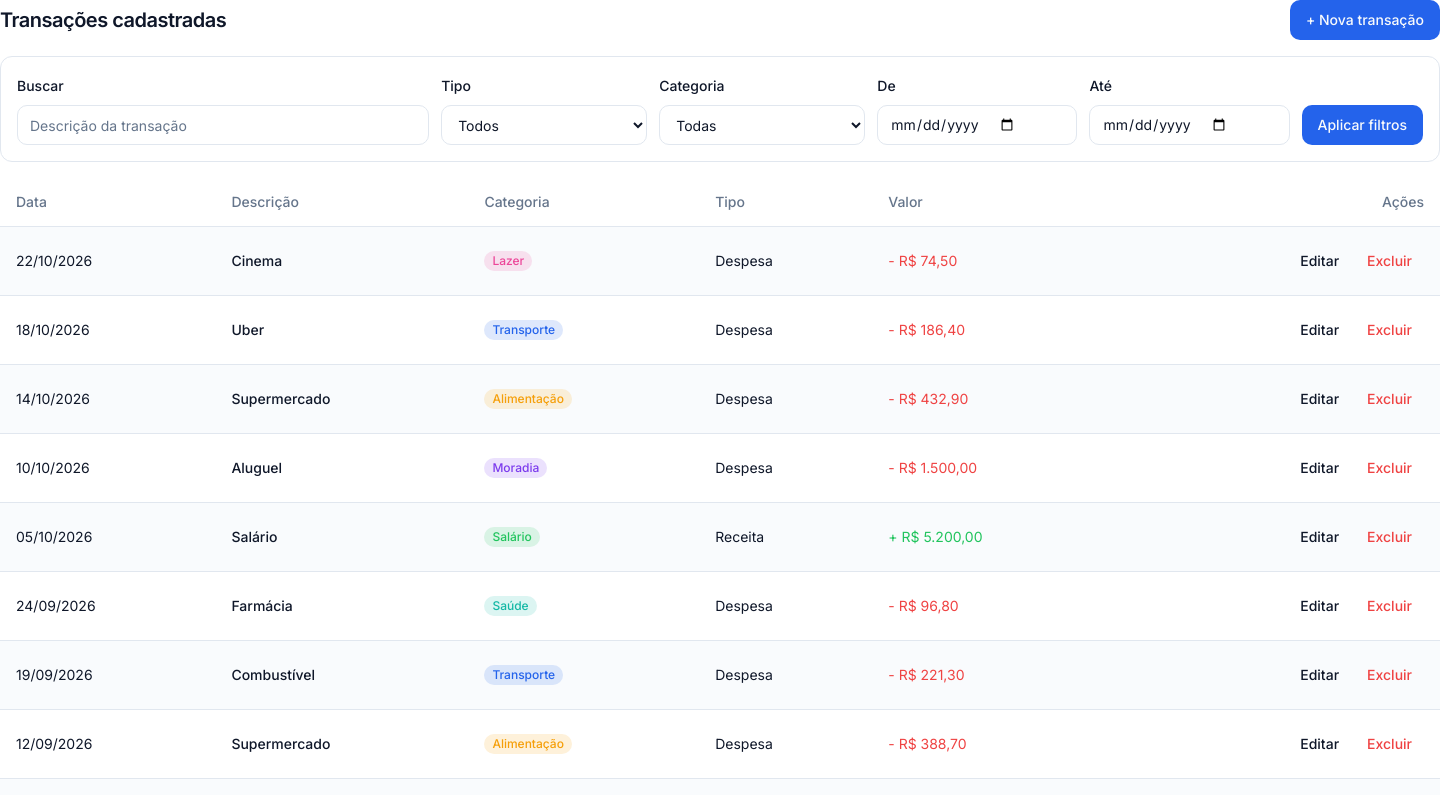
Test: TransactionsPage (AC-004, AC-007, AC-009) › exclui uma transação com confirmação e mostra o estado vazio
The image size is (1440, 795).
Step 1. Type "Dentista" into the search field labelled "Buscar" → (223, 125), box [17, 105, 429, 145]
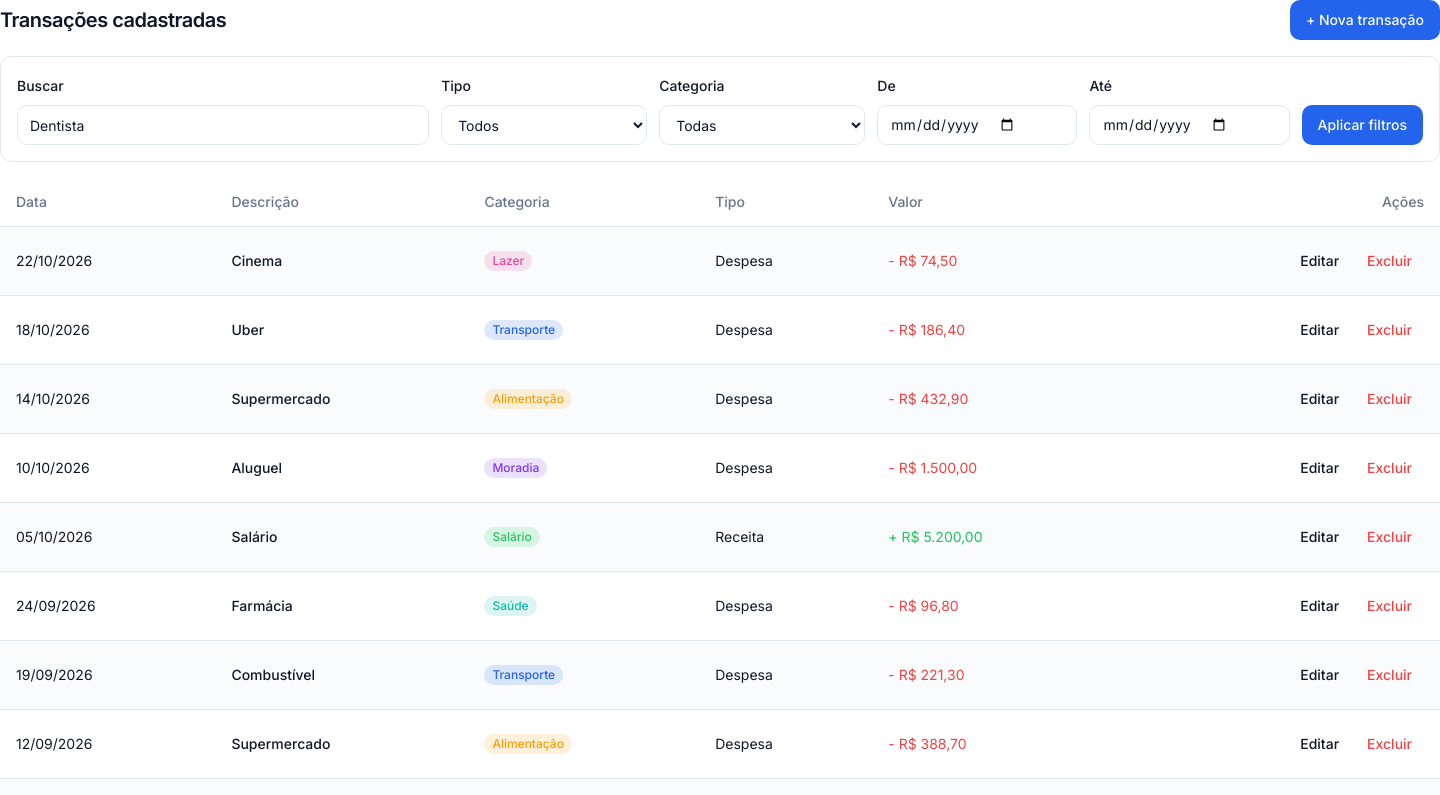
Step 2. Click the button "Aplicar filtros" → (1362, 125), box [1302, 105, 1423, 145]
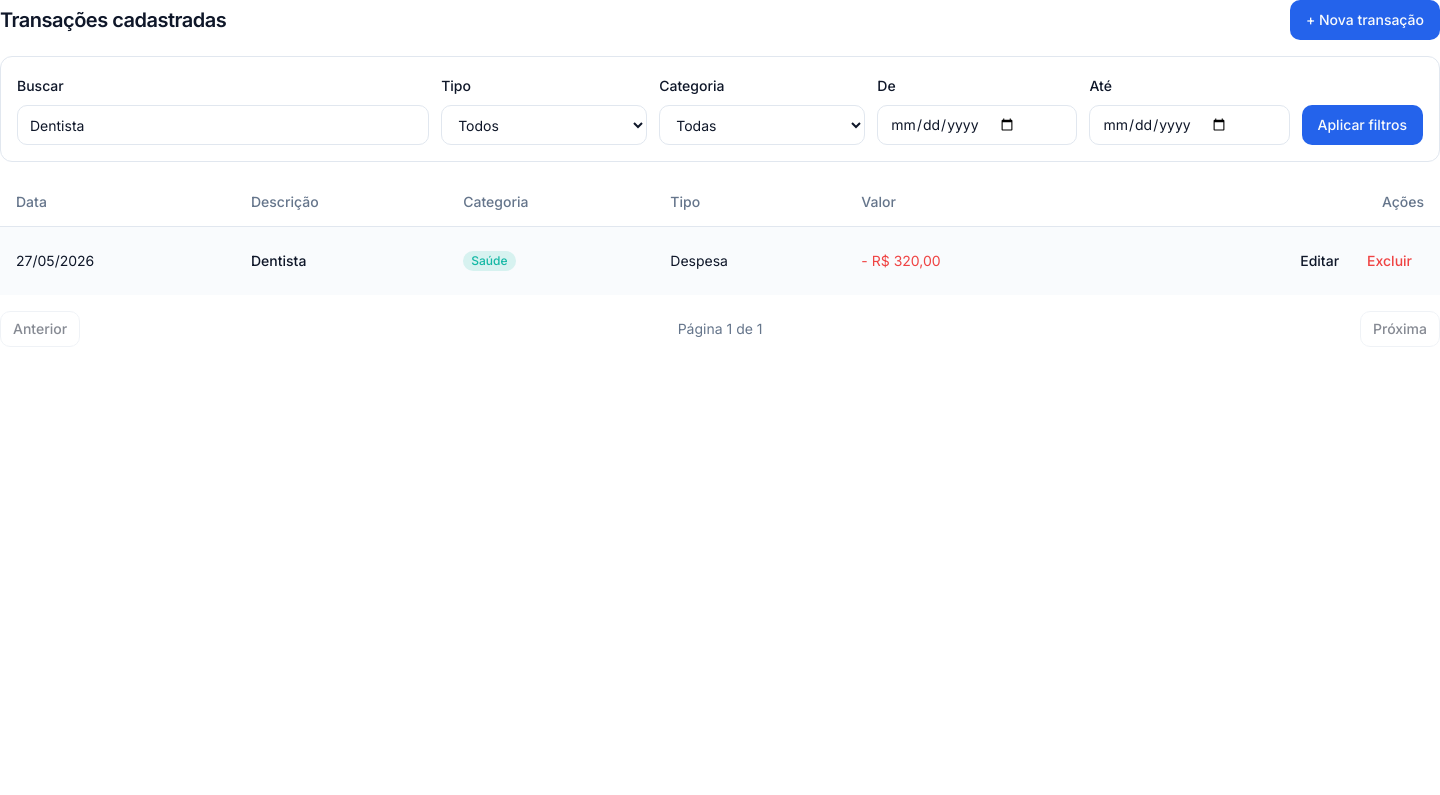
expect the text "Dentista" is shown: met, box [235, 226, 447, 294]
Step 3. Click the button "Excluir" → (1390, 260), box [1355, 242, 1424, 278]
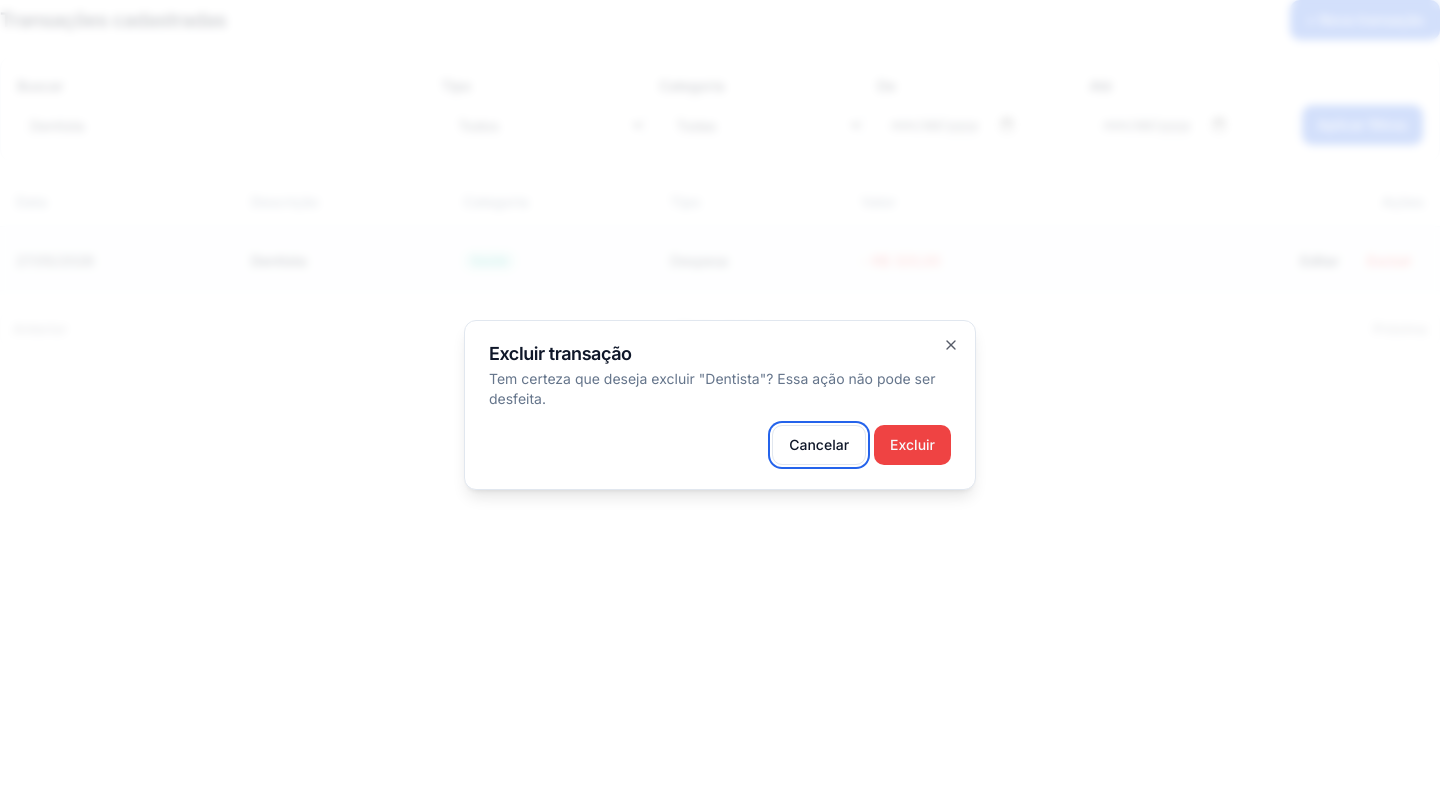
expect the dialog "Excluir transação" is shown: met, box [464, 320, 976, 490]
Step 4. Click the button "Excluir" → (913, 445), box [874, 425, 951, 465]
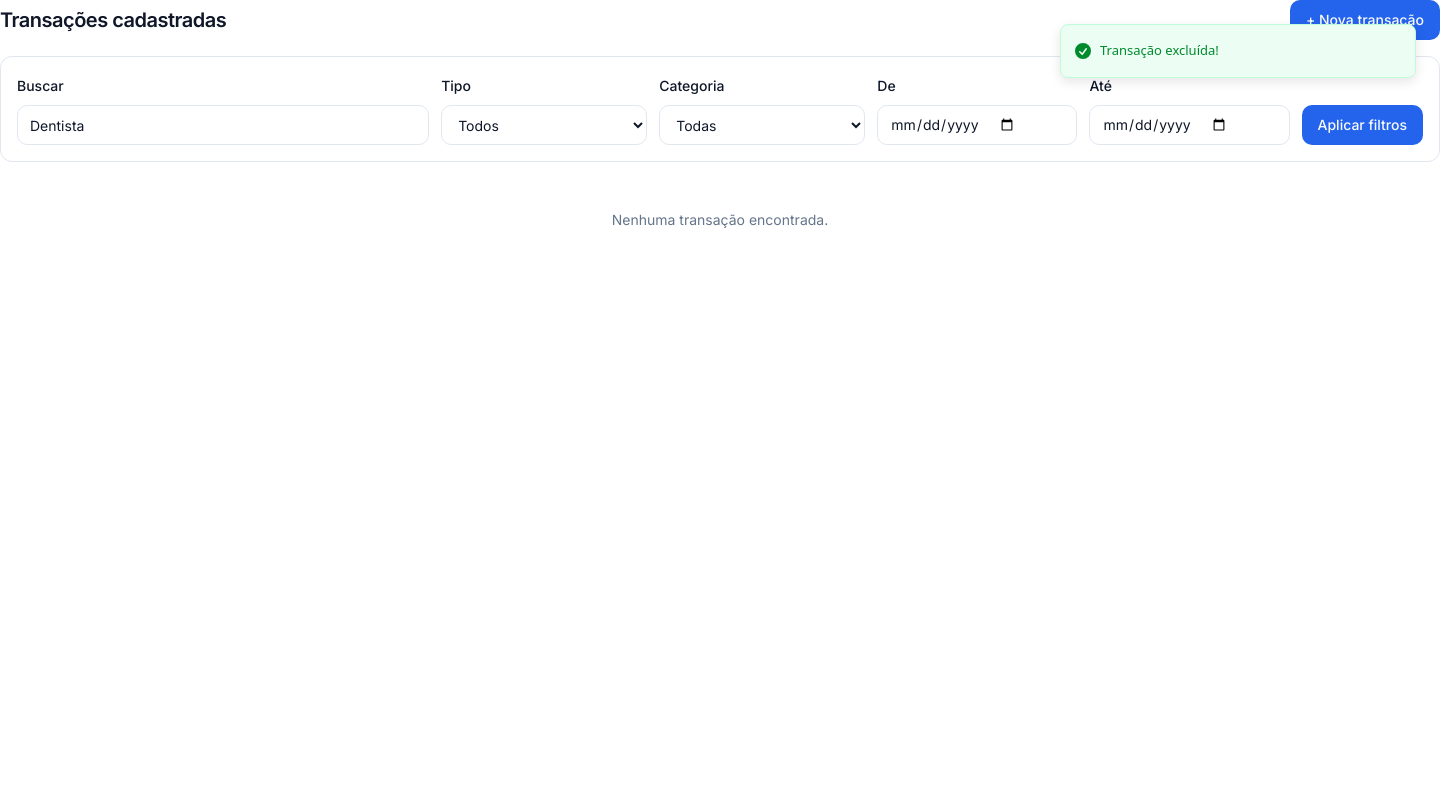
expect the text "Transação excluída!" is shown: met, box [1100, 41, 1219, 60]
expect the text "Nenhuma transação encontrada." is shown: met, box [612, 211, 828, 228]
